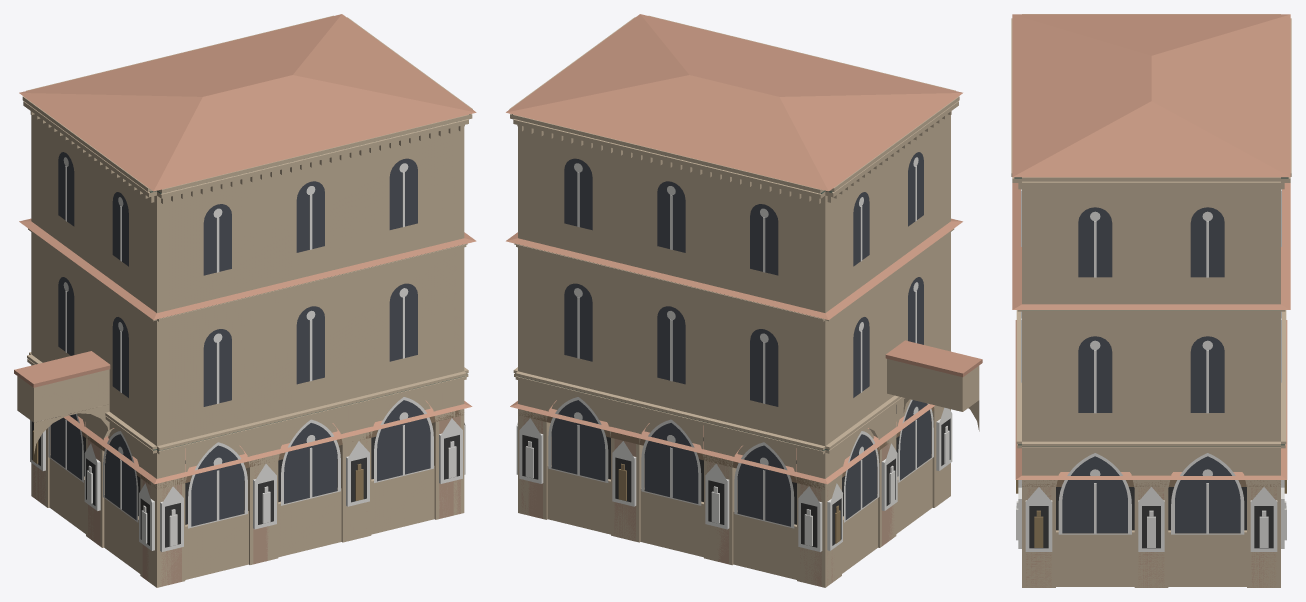
The model's file is orsanmichele.glb.
3 views of the same model, side by side, from view 1: azimuth 30°, elevation 25°; view 2: azimuth 150°, elevation 25°; view 3: azimuth 270°, elevation 25° (orthographic). The views are drawn at different scales.
Parts seen in each view (by area): view 1: granary_2@1404-99999.stone, granary_1@1357-99999.stone, roof@1404-99999.roof, loggia@1337-99999.stone, tracery@1380-99999.stone, tracery@1380-99999.glass, granary_1@1357-99999.glass, granary_2@1404-99999.glass, loggia@1337-99999.white, passage_lana@1569-99999.stone, tracery@1380-99999.white, roof_temp@1357-1404.roof (+8 smaller); view 2: granary_2@1404-99999.stone, granary_1@1357-99999.stone, roof@1404-99999.roof, loggia@1337-99999.stone, tracery@1380-99999.stone, tracery@1380-99999.glass, granary_1@1357-99999.glass, granary_2@1404-99999.glass, loggia@1337-99999.white, tracery@1380-99999.white, roof_temp@1357-1404.roof, passage_lana@1569-99999.stone (+8 smaller); view 3: roof@1404-99999.roof, granary_2@1404-99999.stone, granary_1@1357-99999.stone, loggia@1337-99999.stone, tracery@1380-99999.stone, tracery@1380-99999.glass, granary_1@1357-99999.glass, granary_2@1404-99999.glass, roof_temp@1357-1404.roof, loggia@1337-99999.white, loggia@1337-99999.dark, loggia_arnolfo@1290-1304.roof (+6 smaller).
Boxes of the visible parts, x1,y1,x2,y2 form: granary_2@1404-99999.stone: (22, 15, 472, 312); granary_1@1357-99999.stone: (28, 228, 467, 445); roof@1404-99999.roof: (19, 14, 476, 191); loggia@1337-99999.stone: (27, 352, 468, 587); tracery@1380-99999.stone: (49, 396, 434, 579); tracery@1380-99999.glass: (50, 400, 430, 526); granary_1@1357-99999.glass: (58, 277, 417, 406); granary_2@1404-99999.glass: (58, 152, 417, 275); loggia@1337-99999.white: (30, 418, 465, 551); passage_lana@1569-99999.stone: (17, 369, 109, 453); tracery@1380-99999.white: (48, 397, 433, 528); roof_temp@1357-1404.roof: (19, 218, 476, 319); granary_2@1404-99999.stone: (509, 15, 959, 312); granary_1@1357-99999.stone: (514, 228, 954, 446); roof@1404-99999.roof: (506, 14, 962, 191); loggia@1337-99999.stone: (513, 367, 950, 587); tracery@1380-99999.stone: (547, 396, 932, 579); tracery@1380-99999.glass: (551, 400, 931, 526); granary_1@1357-99999.glass: (564, 277, 923, 406); granary_2@1404-99999.glass: (564, 152, 923, 275); loggia@1337-99999.white: (516, 407, 952, 551); tracery@1380-99999.white: (548, 397, 933, 528); roof_temp@1357-1404.roof: (506, 218, 962, 319); passage_lana@1569-99999.stone: (887, 359, 979, 431); roof@1404-99999.roof: (1012, 14, 1290, 177); granary_2@1404-99999.stone: (1011, 14, 1291, 304); granary_1@1357-99999.stone: (1017, 310, 1285, 441); loggia@1337-99999.stone: (1016, 310, 1286, 587); tracery@1380-99999.stone: (1056, 452, 1246, 586); tracery@1380-99999.glass: (1062, 456, 1240, 533); granary_1@1357-99999.glass: (1078, 336, 1224, 412); granary_2@1404-99999.glass: (1078, 207, 1224, 277); roof_temp@1357-1404.roof: (1012, 183, 1290, 309); loggia@1337-99999.white: (1018, 480, 1284, 551); loggia@1337-99999.dark: (1029, 487, 1273, 548); loggia_arnolfo@1290-1304.roof: (1015, 320, 1287, 479).
Size of the model in its own units: 44.19 by 44.9 by 26.38.
